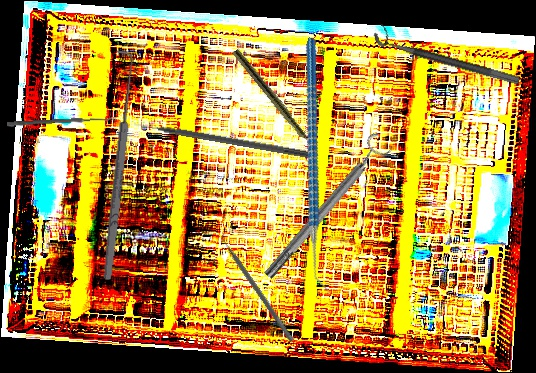Chopper: (235, 37, 403, 294)
Fixation Ring: (255, 130, 396, 285), (370, 22, 525, 86)
Handpiece: (230, 48, 323, 158)
Hook Surgical: (92, 48, 140, 282), (133, 118, 314, 159)
Spatula Surgical: (215, 230, 300, 343)
Surgical Spoon: (6, 116, 117, 127)
